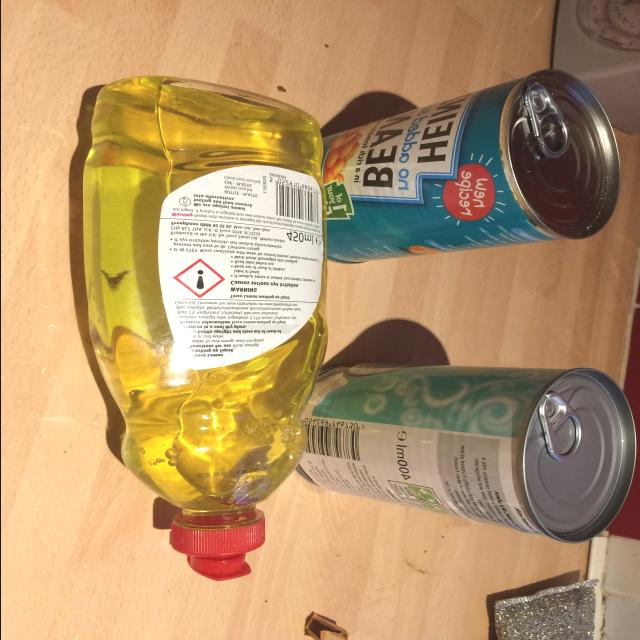Food Can: (294, 362, 635, 543), (320, 69, 620, 264)
Other plastic container: (82, 76, 327, 581)
Plastic bottle cap: (170, 517, 264, 581)
Pop tab: (523, 82, 569, 159), (538, 391, 583, 462)
